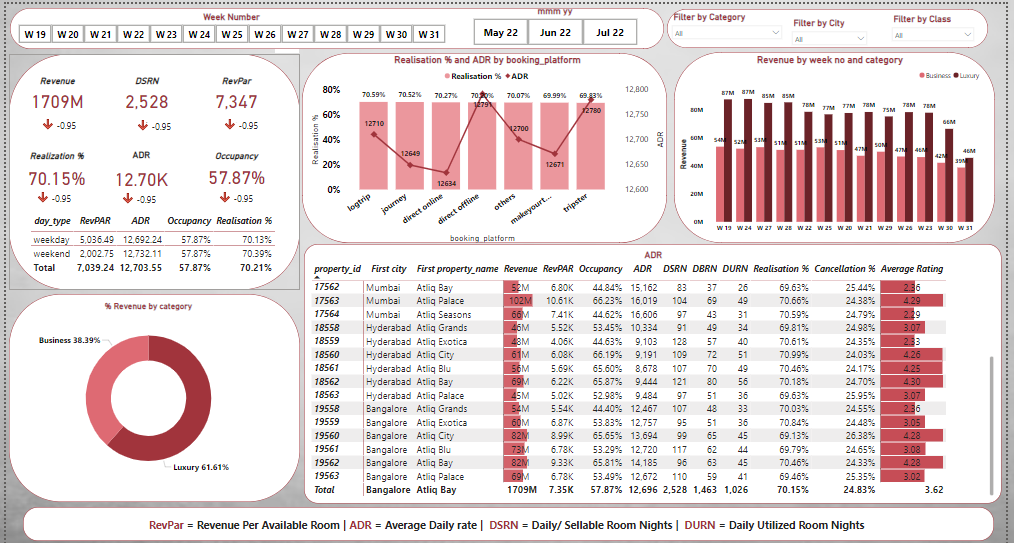

The page's visual inventory and layout, read from the dashboard file:
{"tool":"powerbi","page":{"name":"Page 1","canvas":[2000,1300],"ordinal":0},"visuals":[{"type":"shape","box":[6,100,582,472],"z":0},{"type":"shape","box":[8,8,1308,82],"z":1000},{"type":"shape","box":[1322,10,642,78],"z":2000},{"type":"shape","box":[6,580,582,416],"z":3000},{"type":"pivotTable","title":"ADR","fields":{"Rows":["dim_hotels.property_id"],"Values":["Min(dim_hotels.city)","Min(dim_hotels.property_name)","Table.Revenue","Table.RevPAR","Table.Occupancy","Table.ADR","Table.DSRN","Table.DBRN","Table.DURN","Table.Realisation %","Table.Cancellation %","Table.Average Rating"]},"box":[597,480.7,1395.1,518.7],"z":4000},{"type":"slicer","fields":{"Values":["dim_rooms.room_class"]},"box":[1762,14,184,70],"z":5000},{"type":"slicer","fields":{"Values":["dim_hotels.city"]},"box":[1562,22,170,70],"z":6000},{"type":"slicer","fields":{"Values":["dim_hotels.category"]},"box":[1322,10,240,66],"z":7000},{"type":"donutChart","title":"% Revenue by category","fields":{"Y":["Table.Revenue"],"Category":["dim_hotels.category"]},"box":[32,594,506,370],"z":8000},{"type":"tableEx","fields":{"Values":["Table.Revenue WoW change %"]},"box":[62.7,196.1,135.3,76.5],"z":9000},{"type":"card","title":"Revenue","fields":{"Values":["Table.Revenue"]},"box":[23.5,141.2,156.9,100],"z":10000},{"type":"tableEx","fields":{"Values":["Table.Revenue WoW change %"]},"box":[221.4,344.6,133.9,76.8],"z":11000},{"type":"tableEx","fields":{"Values":["Table.Revenue WoW change %"]},"box":[252.9,198,147.1,76.5],"z":12000},{"type":"tableEx","fields":{"Values":["Table.Revenue WoW change %"]},"box":[425.5,196.1,135.3,78.4],"z":13000},{"type":"tableEx","fields":{"Values":["Table.Revenue WoW change %"]},"box":[415.7,341.2,135.3,76.5],"z":14000},{"type":"card","title":"Occupancy","fields":{"Values":["Table.Occupancy"]},"box":[396.1,292.2,129.4,103.9],"z":15000},{"type":"card","title":"DSRN","fields":{"Values":["Table.DSRN"]},"box":[198,141.2,166.7,102],"z":16000},{"type":"card","title":"RevPar","fields":{"Values":["Table.RevPAR"]},"box":[384.3,141.2,152.9,100],"z":17000},{"type":"card","title":"ADR","fields":{"Values":["Table.ADR"]},"box":[198,290.2,145.1,117.6],"z":18000},{"type":"tableEx","fields":{"Values":["Table.Revenue WoW change %"]},"box":[52.9,341.2,137.3,76.5],"z":19000},{"type":"card","title":"Realization %","fields":{"Values":["Table.Realisation %"]},"box":[30.4,291.1,142.9,108.9],"z":20000},{"type":"slicer","title":"mmm yy","fields":{"Values":["dim_date.mmm yy"]},"box":[910,2,376,86],"z":21000},{"type":"shape","box":[1336,96,642,382],"z":22000},{"type":"tableEx","fields":{"Values":["dim_date.day_type","Table.RevPAR","Table.ADR","Table.Occupancy","Table.Realisation %"]},"box":[44,414,516,158],"z":23000},{"type":"shape","box":[592,98,730,380],"z":23500},{"type":"lineStackedColumnComboChart","fields":{"Category":["fact_booking.booking_platform"],"Y":["Table.Realisation %"],"Y2":["Table.ADR"]},"box":[604,100,718,382],"z":24000},{"type":"textbox","box":[34,1006,1942,68],"z":25000},{"type":"clusteredColumnChart","fields":{"Category":["dim_date.week no"],"Y":["Table.Revenue"],"Series":["dim_hotels.category"]},"box":[1340,100,616,366],"z":27000},{"type":"slicer","title":"Week Number","fields":{"Values":["dim_date.week no"]},"box":[0,14,902,70],"z":28000}]}

Visuals, with their boxes on the page's 2000x1300 design canvas (x1, y1, x2, y2). These are canvas units, not pixel positions in the 1014x543 screenshot, which may show the page scaled, cropped or inside an application window:
shape: <bbox>6, 100, 588, 572</bbox>
shape: <bbox>8, 8, 1316, 90</bbox>
shape: <bbox>1322, 10, 1964, 88</bbox>
shape: <bbox>6, 580, 588, 996</bbox>
"ADR" pivotTable: <bbox>597, 481, 1992, 999</bbox>
slicer - dim_rooms.room_class: <bbox>1762, 14, 1946, 84</bbox>
slicer - dim_hotels.city: <bbox>1562, 22, 1732, 92</bbox>
slicer - dim_hotels.category: <bbox>1322, 10, 1562, 76</bbox>
"% Revenue by category" donutChart: <bbox>32, 594, 538, 964</bbox>
tableEx - Table.Revenue WoW change %: <bbox>63, 196, 198, 273</bbox>
"Revenue" card: <bbox>24, 141, 180, 241</bbox>
tableEx - Table.Revenue WoW change %: <bbox>221, 345, 355, 421</bbox>
tableEx - Table.Revenue WoW change %: <bbox>253, 198, 400, 274</bbox>
tableEx - Table.Revenue WoW change %: <bbox>426, 196, 561, 274</bbox>
tableEx - Table.Revenue WoW change %: <bbox>416, 341, 551, 418</bbox>
"Occupancy" card: <bbox>396, 292, 526, 396</bbox>
"DSRN" card: <bbox>198, 141, 365, 243</bbox>
"RevPar" card: <bbox>384, 141, 537, 241</bbox>
"ADR" card: <bbox>198, 290, 343, 408</bbox>
tableEx - Table.Revenue WoW change %: <bbox>53, 341, 190, 418</bbox>
"Realization %" card: <bbox>30, 291, 173, 400</bbox>
"mmm yy" slicer: <bbox>910, 2, 1286, 88</bbox>
shape: <bbox>1336, 96, 1978, 478</bbox>
tableEx - dim_date.day_type x Table.RevPAR: <bbox>44, 414, 560, 572</bbox>
shape: <bbox>592, 98, 1322, 478</bbox>
lineStackedColumnComboChart - fact_booking.booking_platform x Table.Realisation %: <bbox>604, 100, 1322, 482</bbox>
textbox: <bbox>34, 1006, 1976, 1074</bbox>
clusteredColumnChart - dim_date.week no x Table.Revenue: <bbox>1340, 100, 1956, 466</bbox>
"Week Number" slicer: <bbox>0, 14, 902, 84</bbox>
